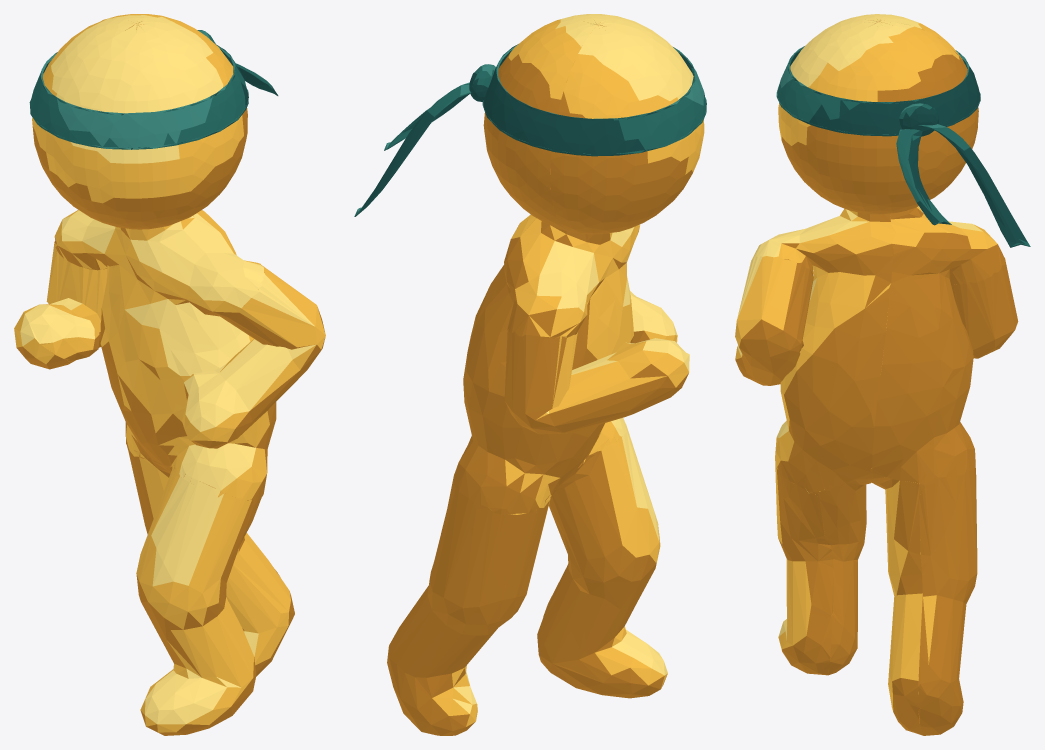
The model's file is Ninja_Jog1_L.gltf.
3 views of the same model, side by side, from view 1: azimuth 30°, elevation 25°; view 2: azimuth 150°, elevation 25°; view 3: azimuth 270°, elevation 25° (orthographic). The views are drawn at different scales.
Parts seen in each view (by area): view 1: Ninja_Jog1_L_baked; view 2: Ninja_Jog1_L_baked; view 3: Ninja_Jog1_L_baked.
Boxes of the visible parts, x1,y1,x2,y2 form: Ninja_Jog1_L_baked: (14, 14, 325, 735); Ninja_Jog1_L_baked: (354, 14, 706, 735); Ninja_Jog1_L_baked: (735, 14, 1030, 735).
Bounding box in the file's own units: 0.4139 × 1 × 0.4097.
